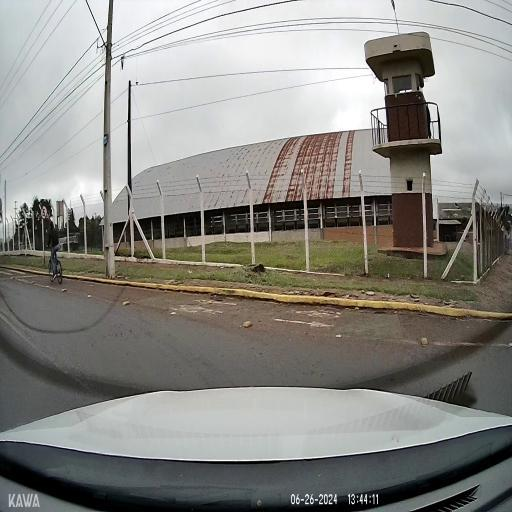R-6a: (40, 205, 46, 221)
